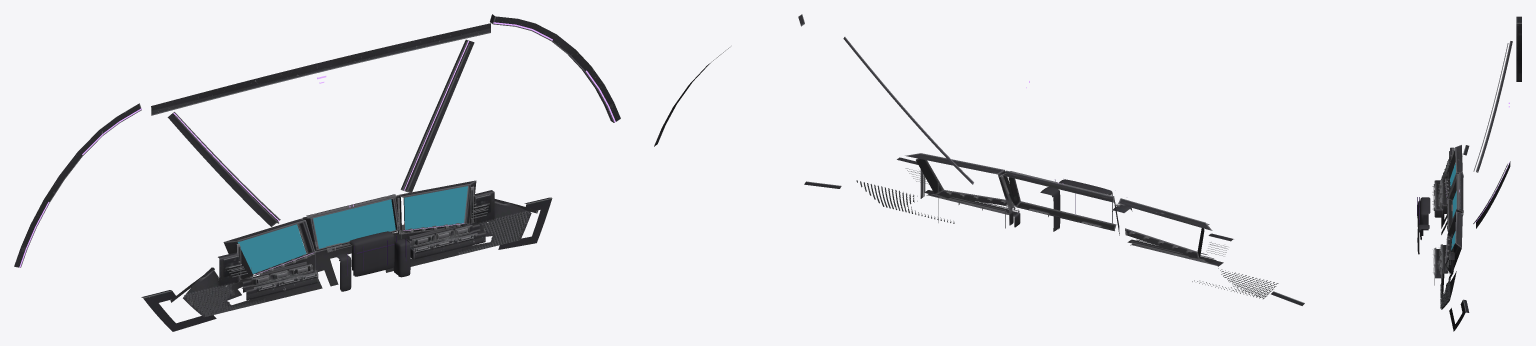
File: sd_hayalet_cockpit_r005_m.glb
3 renders of one model, left to right at view 1: azimuth 30°, elevation 25°; view 2: azimuth 150°, elevation 25°; view 3: azimuth 270°, elevation 25°, orthographic. The views are drawn at different scales.
Parts seen in each view (by area): view 1: LOD0_body, SCR_RADAR, SCR_HULL, SCR_SYS, LOD0_emit; view 2: LOD0_body; view 3: LOD0_body.
Boxes of the visible parts, x1=… form: LOD0_body: x1=14, y1=14, x2=620, y2=331; SCR_RADAR: x1=313, y1=199, x2=395, y2=248; SCR_HULL: x1=404, y1=186, x2=467, y2=229; SCR_SYS: x1=237, y1=224, x2=306, y2=273; LOD0_emit: x1=19, y1=22, x2=615, y2=274; LOD0_body: x1=654, y1=14, x2=1304, y2=305; LOD0_body: x1=1417, y1=16, x2=1521, y2=331.
Size of the model in its own units: 4.82 by 1.52 by 0.859.
3 materials, 1 textured.
